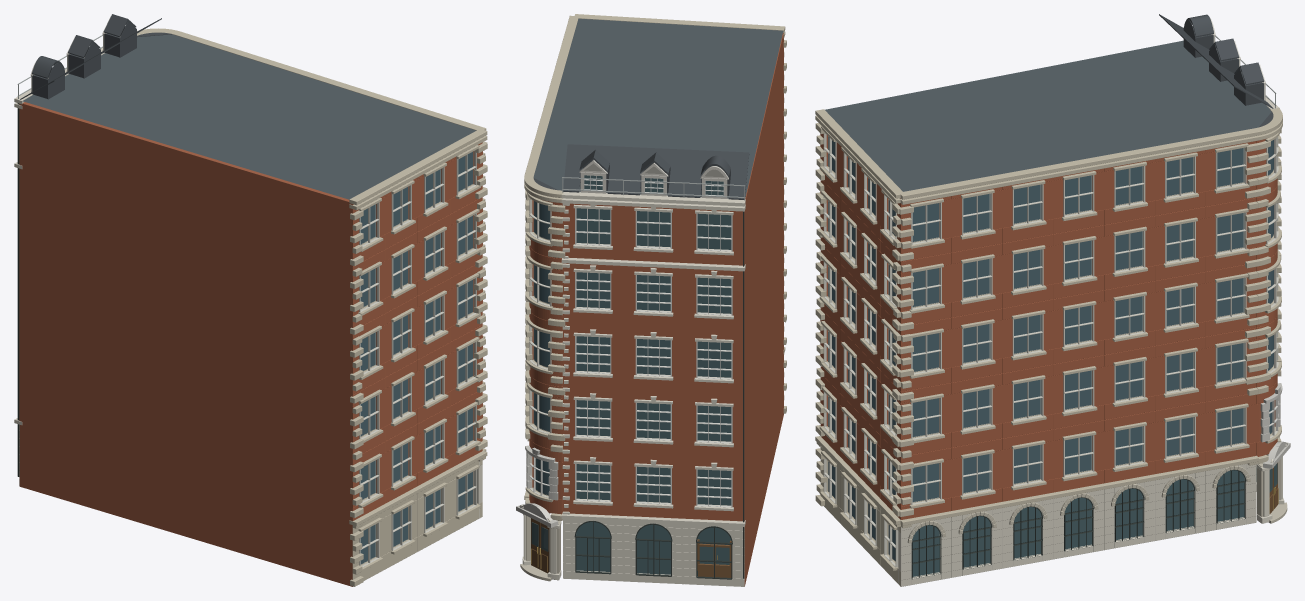
Rendered from 51l-exterior-f3e380adb382.glb.
The picture shows the model from 3 angles, left to right: view 1: azimuth 30°, elevation 25°; view 2: azimuth 150°, elevation 25°; view 3: azimuth 270°, elevation 25°; orthographic projection.
Visible parts, largest first — view 1: 51L.001; view 2: 51L.001; view 3: 51L.001.
Boxes of the visible parts, x1,y1,x2,y2 form: 51L.001: (14, 14, 487, 586); 51L.001: (516, 14, 786, 586); 51L.001: (815, 14, 1290, 586).
Bounding box in the file's own units: 18.34 × 22.82 × 22.96.
